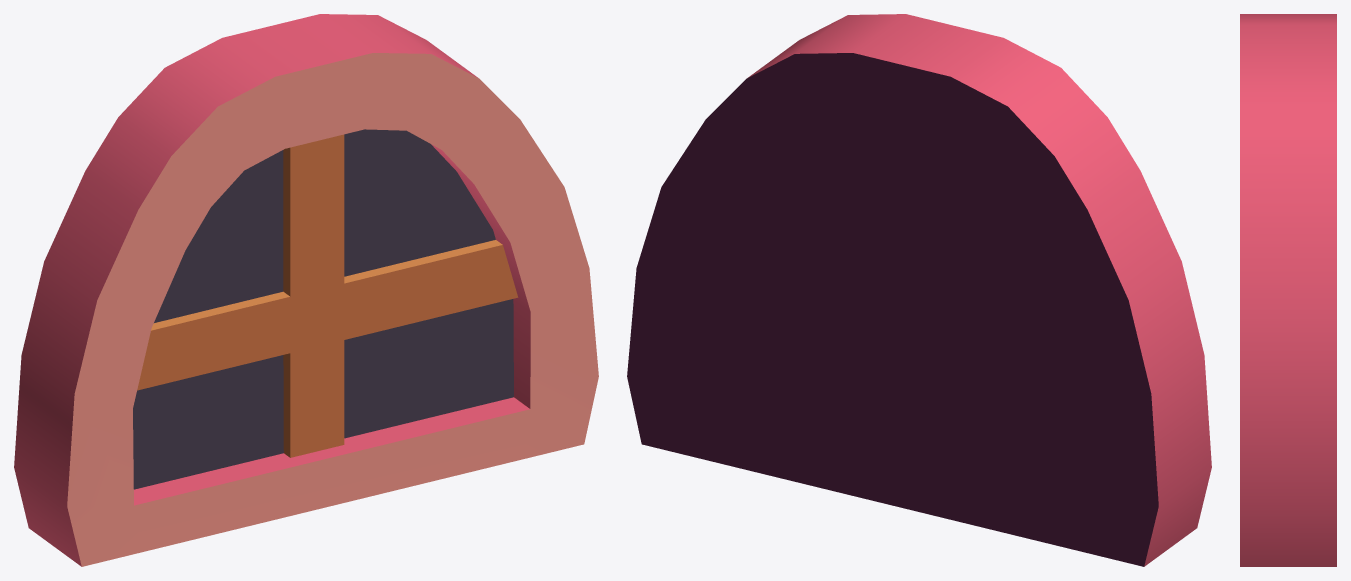
The model's file is Window03_Pink_Wood.glb.
The picture shows the model from 3 angles, left to right: view 1: azimuth 30°, elevation 25°; view 2: azimuth 150°, elevation 25°; view 3: azimuth 270°, elevation 25°; orthographic projection. The views are drawn at different scales.
Visible parts, largest first — view 1: Window03_Pink_Wood; view 2: Window03_Pink_Wood; view 3: Window03_Pink_Wood.
Part boxes in pixels (box(x1,y1,x2,y2)): Window03_Pink_Wood: box(14, 14, 598, 566); Window03_Pink_Wood: box(627, 14, 1211, 566); Window03_Pink_Wood: box(1240, 14, 1336, 566).
Bounding box in the file's own units: 0.9047 × 0.7203 × 0.1565.
Materials: 1 (1 with a texture image).
